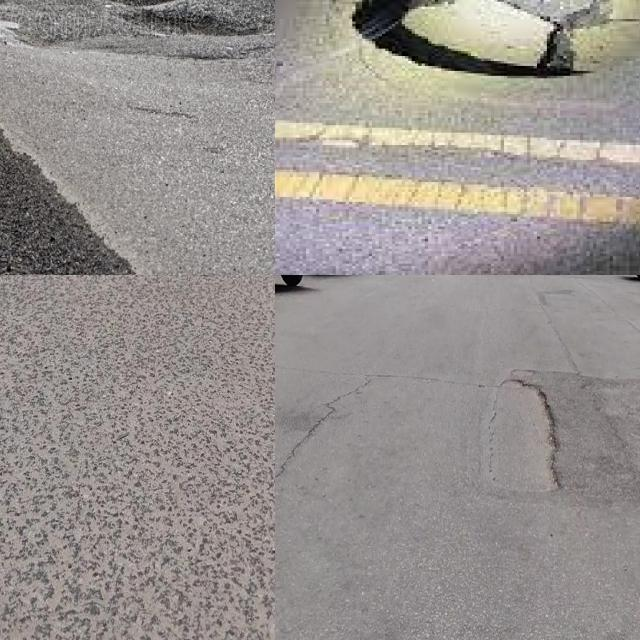Pothole: (356, 0, 626, 77), (487, 376, 563, 495), (102, 0, 189, 27), (194, 17, 221, 33)
